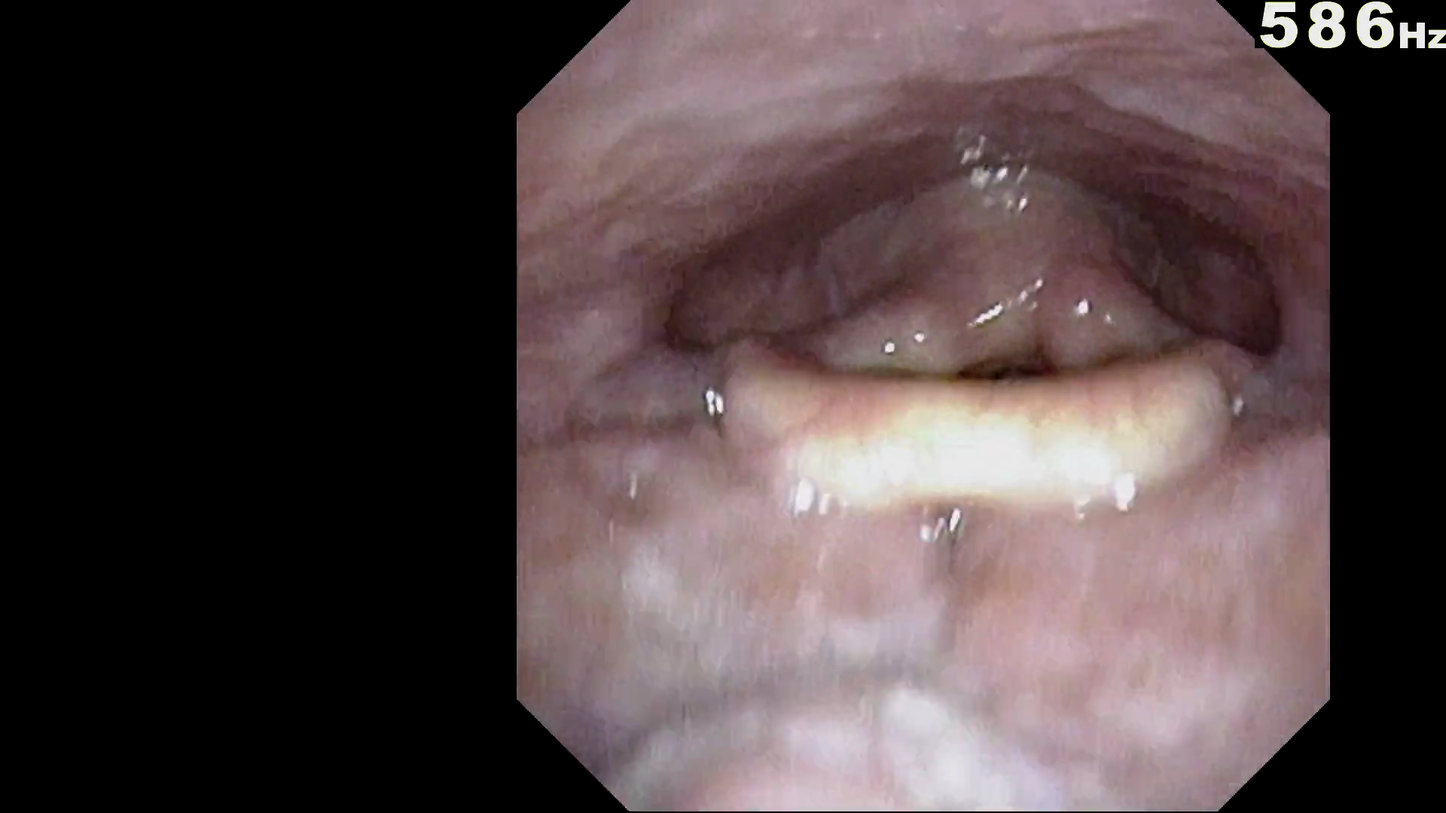epiglottis: (740, 349, 1212, 510)
